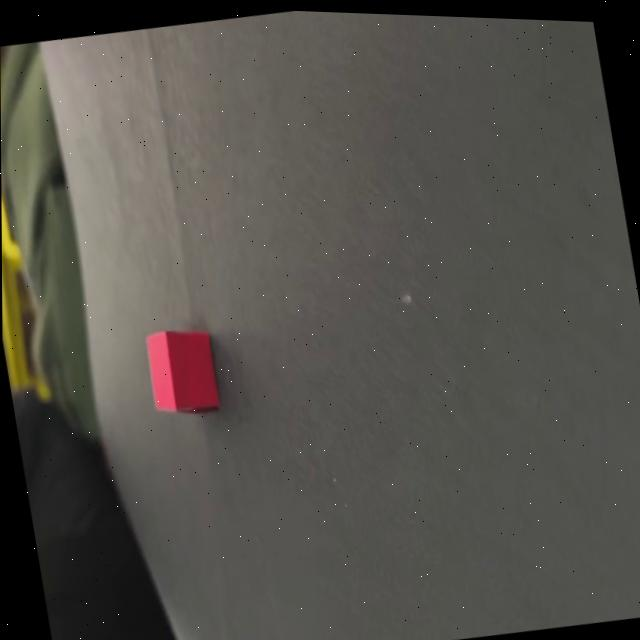red block: (141, 323, 222, 423)
